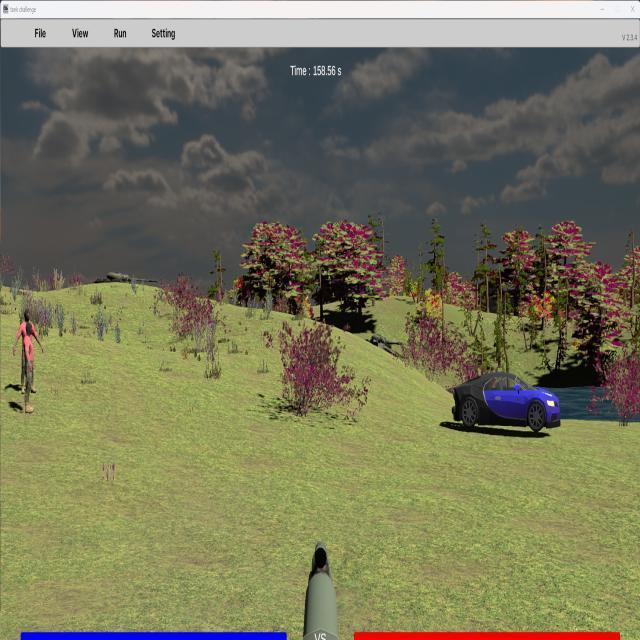Human: (23, 318, 35, 410)
car: (452, 371, 561, 432)
